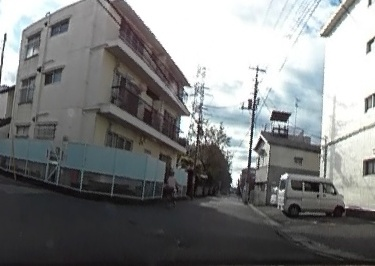person: (166, 171, 177, 199)
